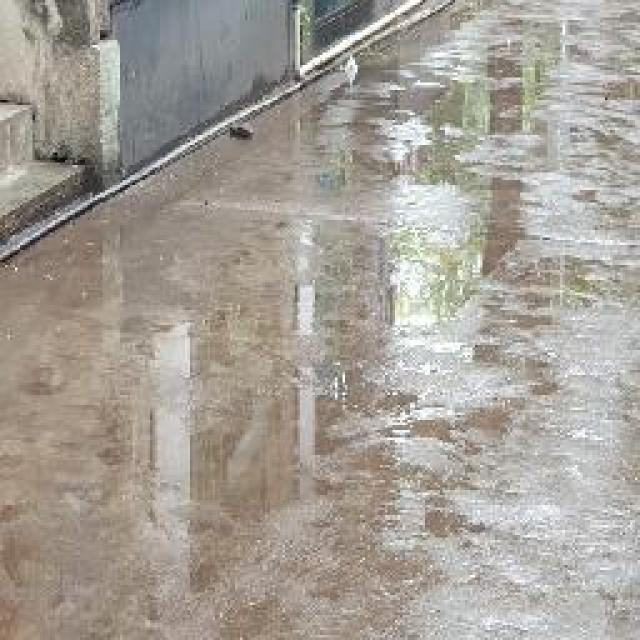stagnation: (323, 201, 528, 351), (431, 22, 633, 130)
